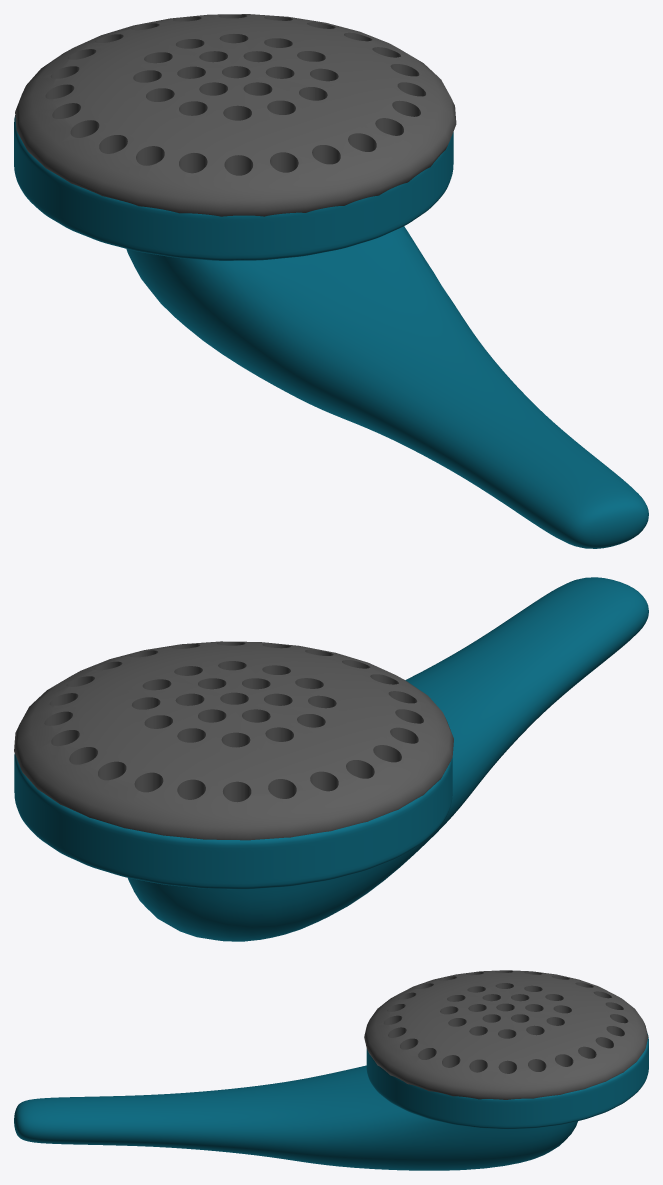
The model's file is ShowerHead.New(V1).fbx.
3 renders of one model, top to bottom at view 1: azimuth 30°, elevation 25°; view 2: azimuth 150°, elevation 25°; view 3: azimuth 270°, elevation 25°, orthographic. The views are drawn at different scales.
Parts seen in each view (by area): view 1: Cube.001; view 2: Cube.001; view 3: Cube.001.
Part boxes in pixels (x1,y1,x2,y2): Cube.001: [14, 14, 648, 548]; Cube.001: [14, 577, 648, 941]; Cube.001: [14, 970, 648, 1170].
Size of the model in its own units: 200 by 119 by 447.
